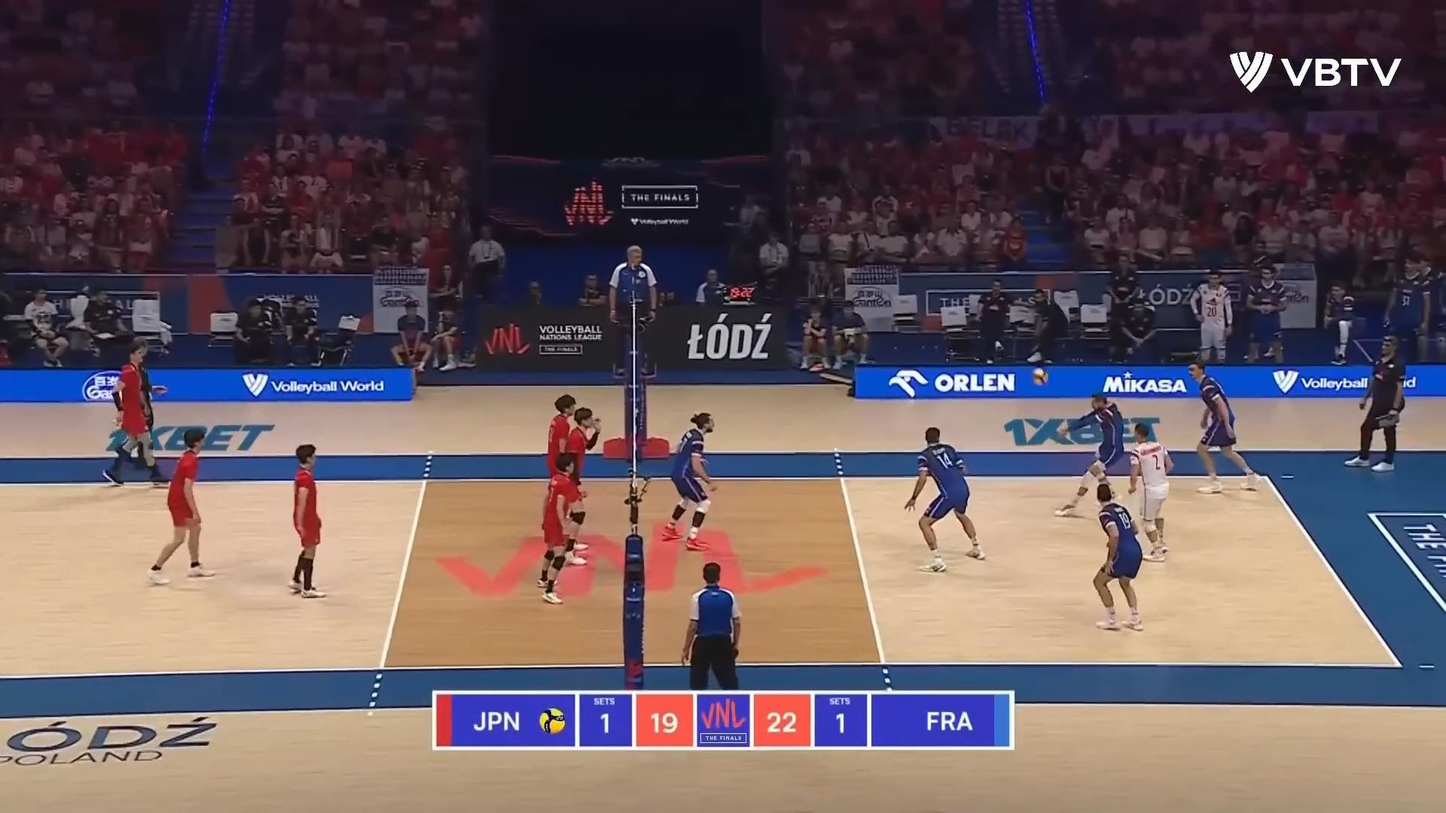ball: (1032, 368, 1048, 385)
